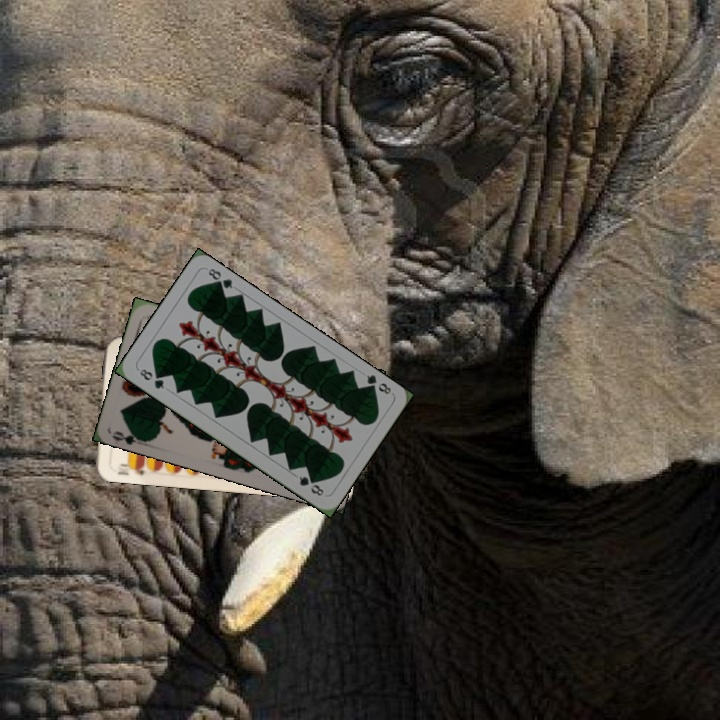E10: (116, 459, 147, 477)
G8: (135, 365, 167, 392), (361, 371, 394, 397)
GO: (109, 425, 150, 449)
